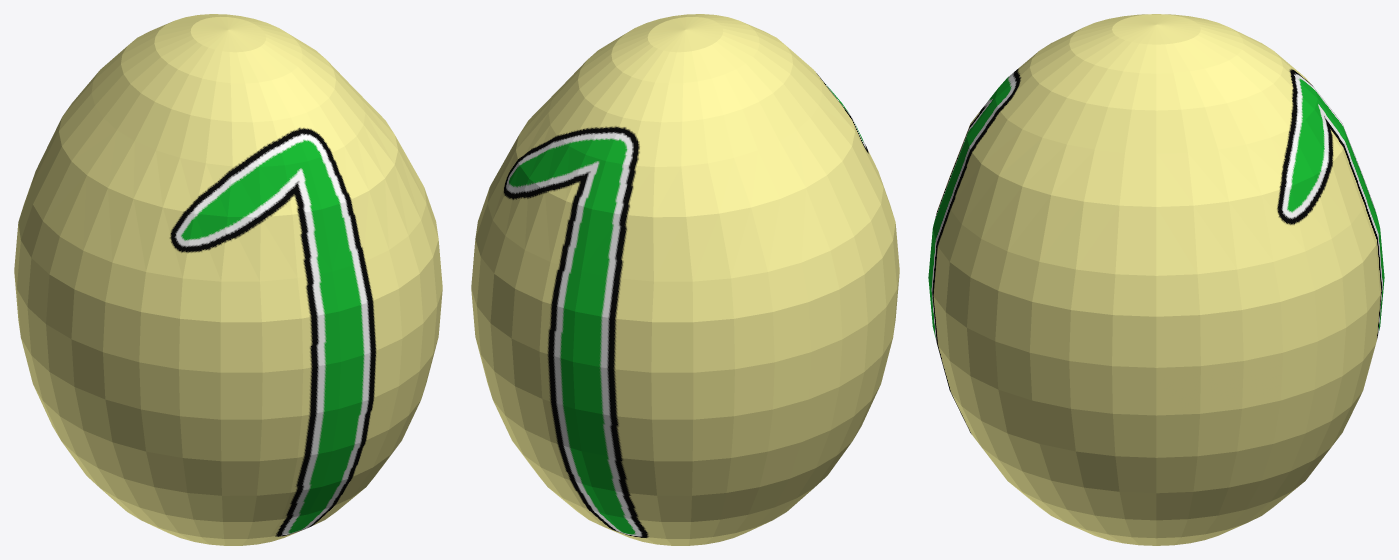
The model's file is egg.obj.
3 views of the same model, side by side, from view 1: azimuth 30°, elevation 25°; view 2: azimuth 150°, elevation 25°; view 3: azimuth 270°, elevation 25° (orthographic).
Visible parts, largest first — view 1: 球; view 2: 球; view 3: 球.
Boxes of the visible parts, left/top/right/bottom form: 球: left=14, top=14, right=442, bottom=545; 球: left=471, top=14, right=899, bottom=545; 球: left=928, top=14, right=1384, bottom=545.
Bounding box in the file's own units: 2 × 2.62 × 2.14.
